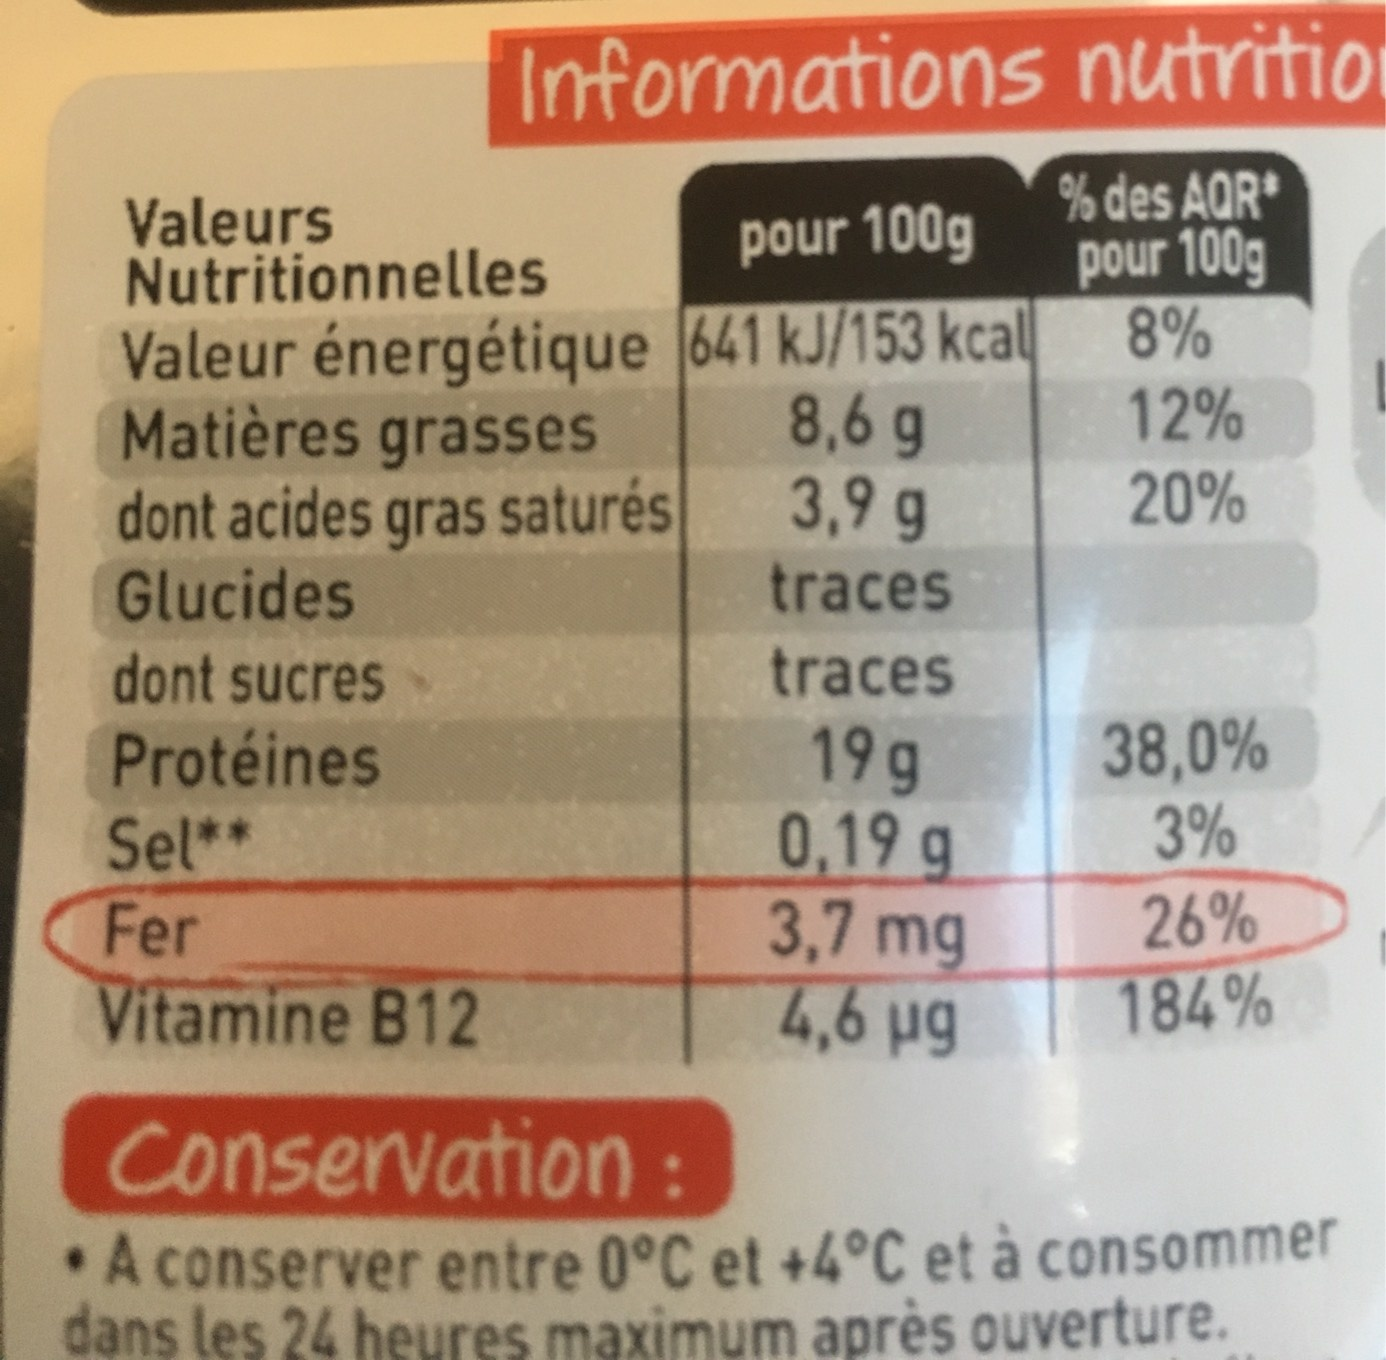column: (98, 189, 670, 1052), (690, 191, 1027, 1059), (1057, 172, 1293, 1062)
table: (77, 161, 1334, 1064)
